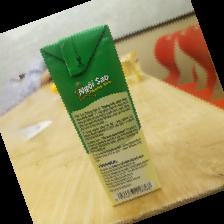NSPN_Hop: (36, 25, 162, 207)
